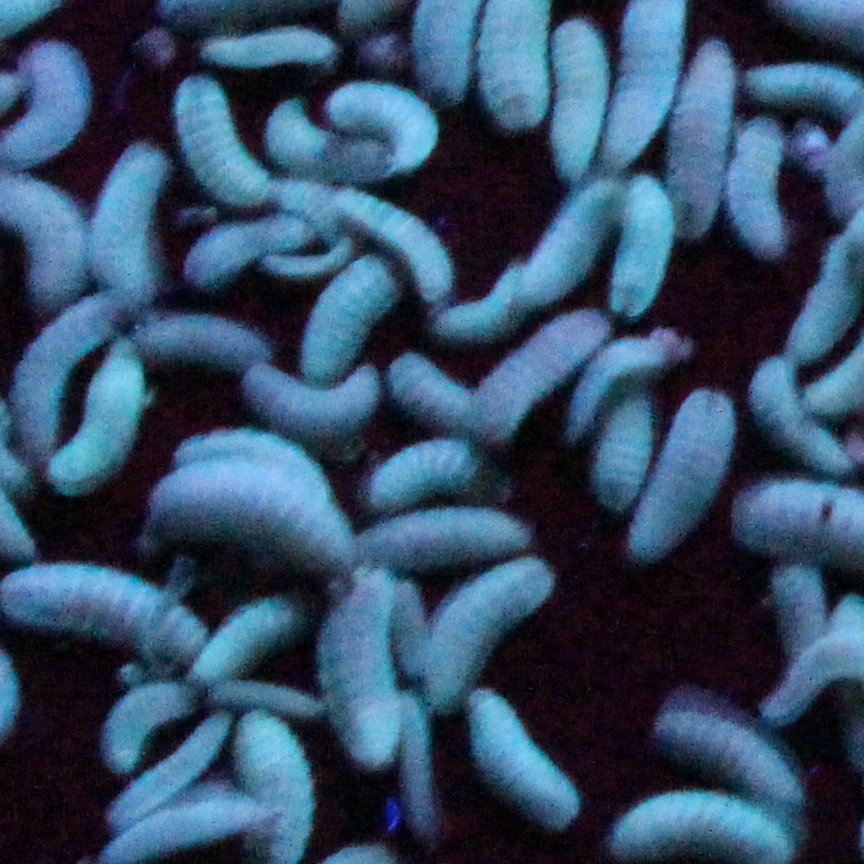larve: (161, 450, 354, 576), (619, 390, 753, 566), (4, 572, 200, 669), (479, 307, 614, 445), (423, 569, 552, 700), (467, 697, 581, 832), (322, 576, 400, 769), (668, 40, 737, 244), (658, 710, 798, 809), (50, 355, 148, 495), (335, 189, 455, 300), (19, 298, 109, 445), (510, 183, 617, 304), (93, 143, 173, 303), (238, 714, 318, 863), (298, 259, 408, 365), (1, 177, 90, 308), (172, 79, 260, 204), (356, 444, 515, 513), (592, 386, 678, 513), (354, 510, 543, 564), (729, 113, 794, 257), (269, 105, 385, 183), (241, 362, 374, 428), (187, 215, 304, 290), (392, 355, 499, 437), (204, 597, 310, 679), (749, 358, 827, 466), (332, 85, 432, 165), (85, 683, 195, 755), (610, 185, 671, 309), (555, 17, 599, 181), (426, 277, 533, 342), (132, 324, 272, 368), (200, 31, 344, 73)
